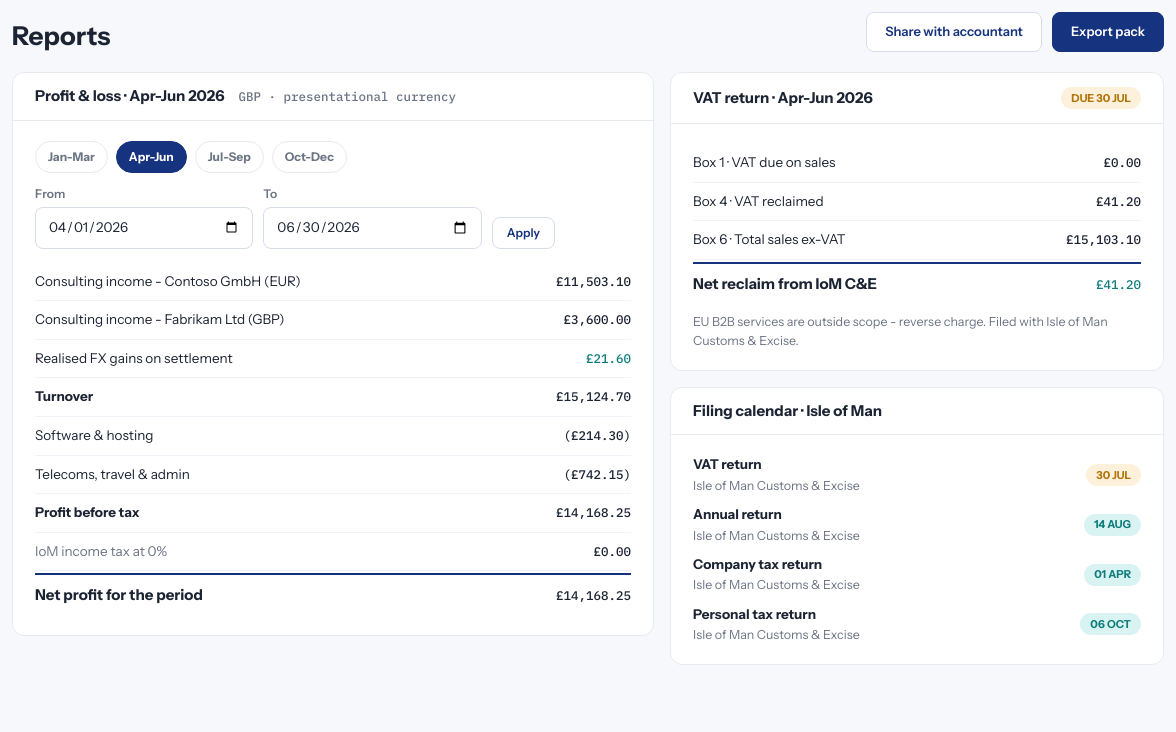
ReportsScreen › starts an export download for the selected period
This screenshot has width=1176, height=732.
What coordinates should you click on to do the following:
click the button "Export pack"
I would click on:
 (1108, 32)
Its box is [1052,12,1164,52].
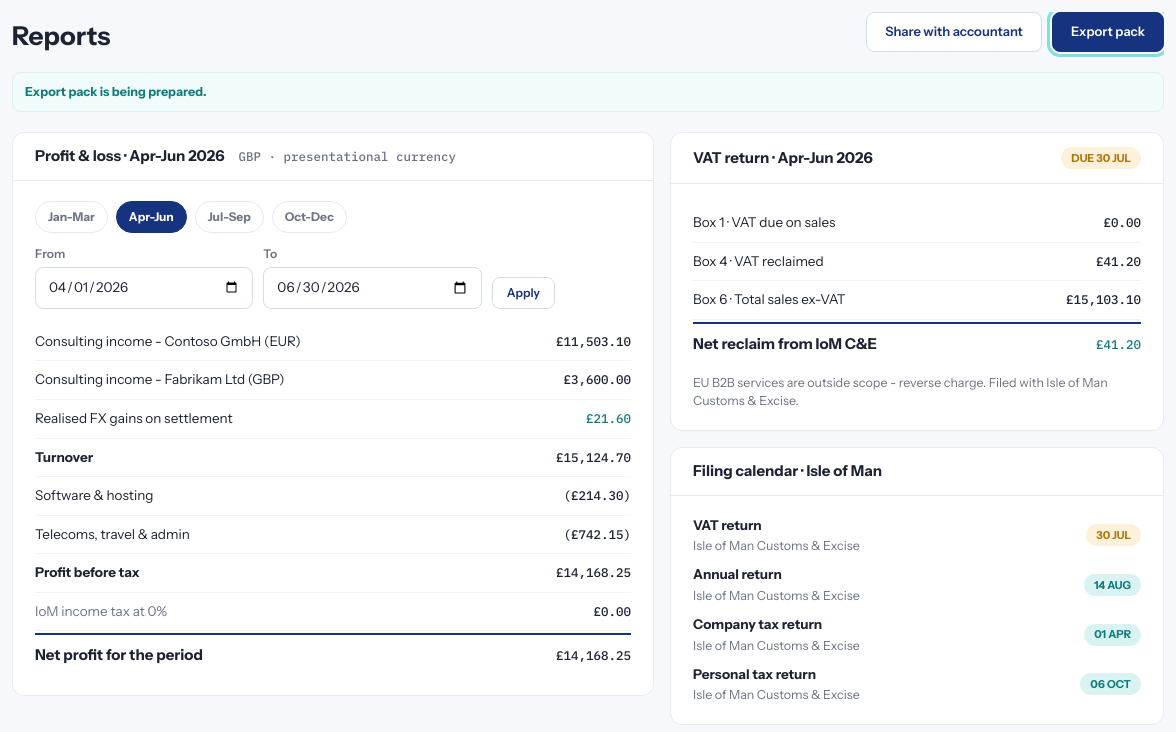
Check: the message reads "Export pack is being prepared.", box [25,84,207,99]
